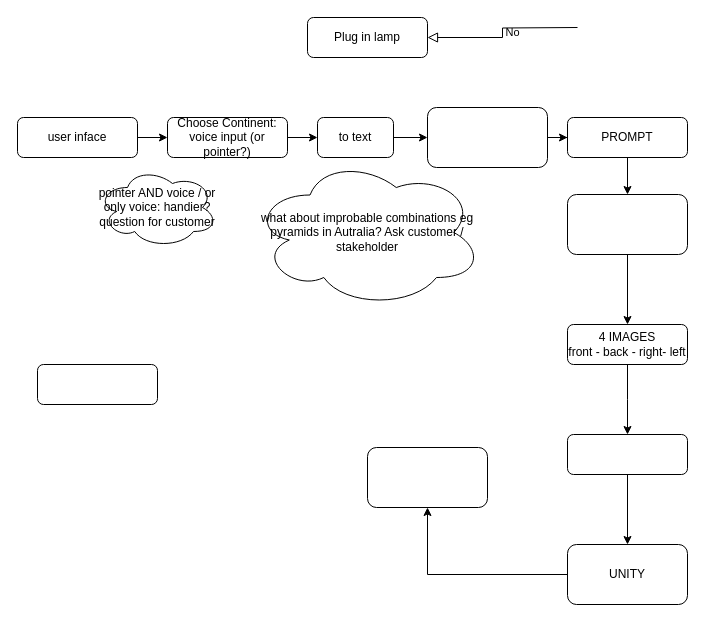
The diagram is 705 pixels wide and 622 high, and some of its shapes have lost their labels. Here are the shapes that lost their labels. From the top down, the box of each, then its label:
(426, 106, 548, 168): voice input to prompt transfer
(566, 194, 688, 254): AI MODEL
(36, 364, 158, 404): Choose Continent
(566, 434, 688, 474): STITCH images to 360° environment
(366, 446, 488, 508): show environment IMMERSIVE ROOM
